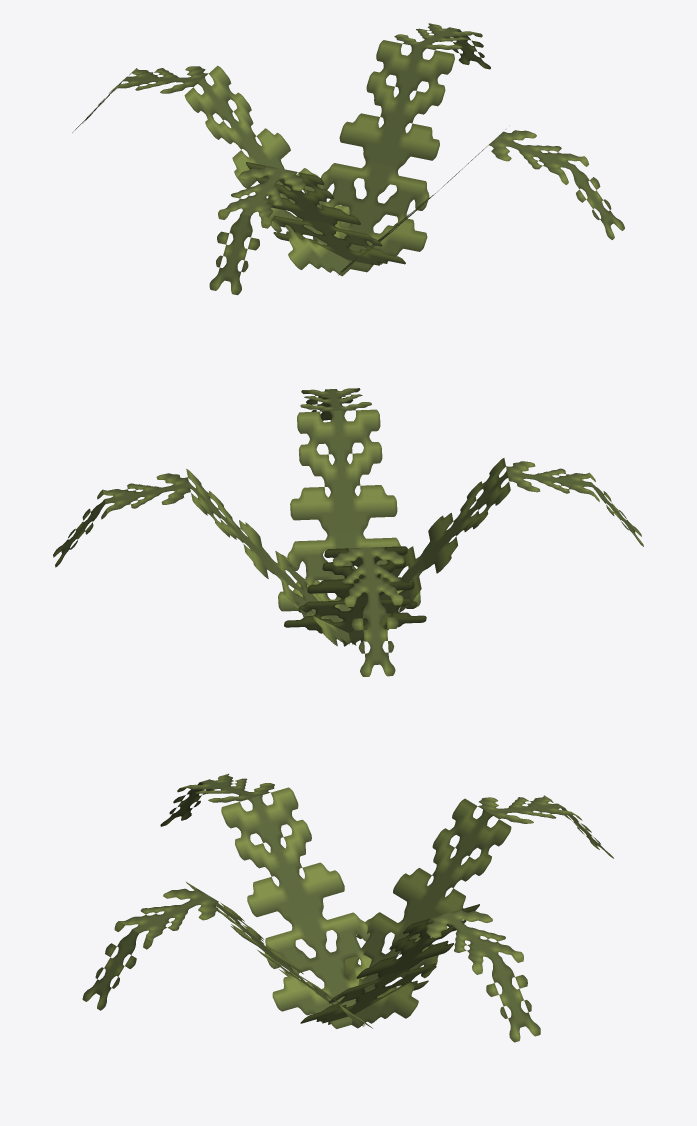
File: long_grass_02.fbx
The picture shows the model from 3 angles, top to bottom: view 1: azimuth 30°, elevation 25°; view 2: azimuth 150°, elevation 25°; view 3: azimuth 270°, elevation 25°; orthographic projection. The views are drawn at different scales.
Visible parts, largest first — view 1: long_grass_02; view 2: long_grass_02; view 3: long_grass_02.
Part boxes in pixels (x1,y1,x2,y2): long_grass_02: [72, 23, 624, 295]; long_grass_02: [53, 388, 643, 676]; long_grass_02: [82, 773, 613, 1042].
Bounding box in the file's own units: 789 × 222 × 793.
Materials: 1 (1 with a texture image).
